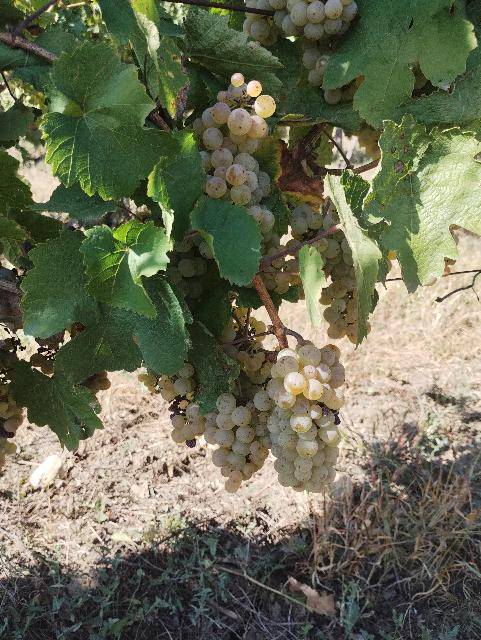grapes: (194, 72, 276, 242), (268, 344, 346, 492), (286, 204, 359, 342), (205, 386, 270, 494)
